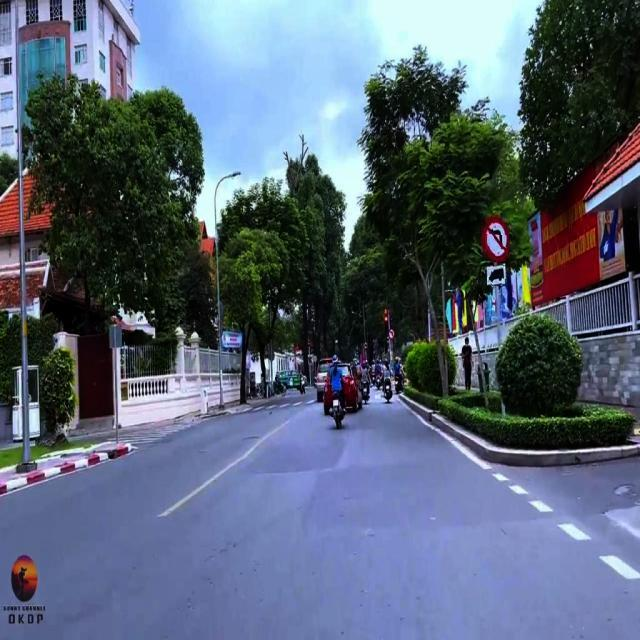106-cam-oto-tai: (364, 342, 368, 350)
123a-cam-re-trai: (483, 216, 511, 260), (388, 329, 396, 339)
